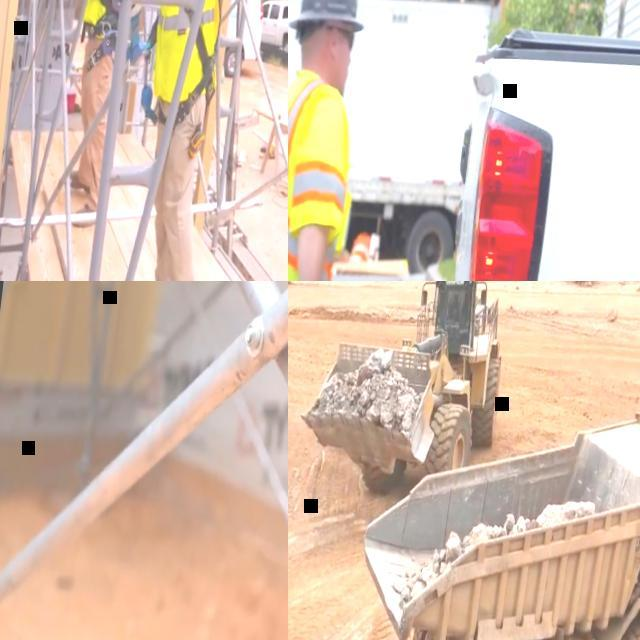helmet: (288, 0, 373, 37)
vest: (288, 66, 365, 281), (148, 0, 236, 106), (79, 0, 131, 36)
